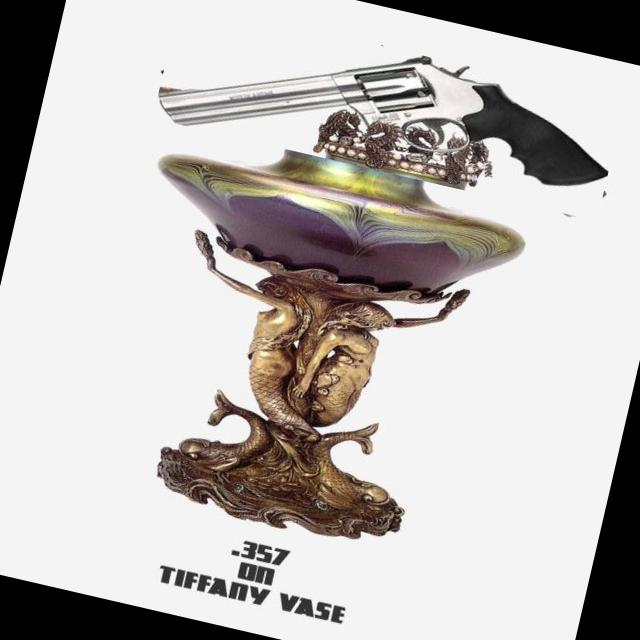Gun: (159, 56, 607, 185)
